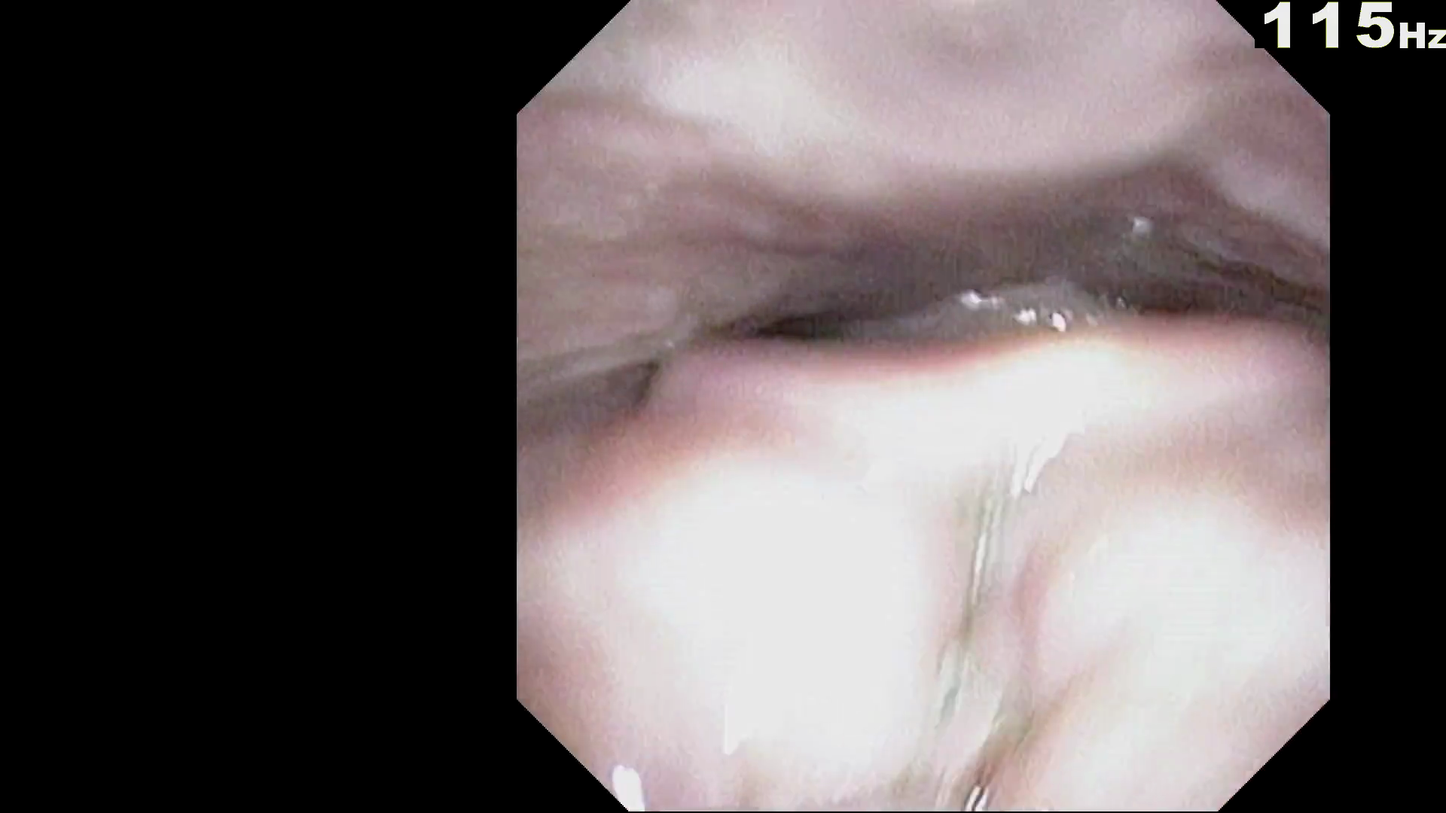epiglottis: (716, 547, 1265, 714)
